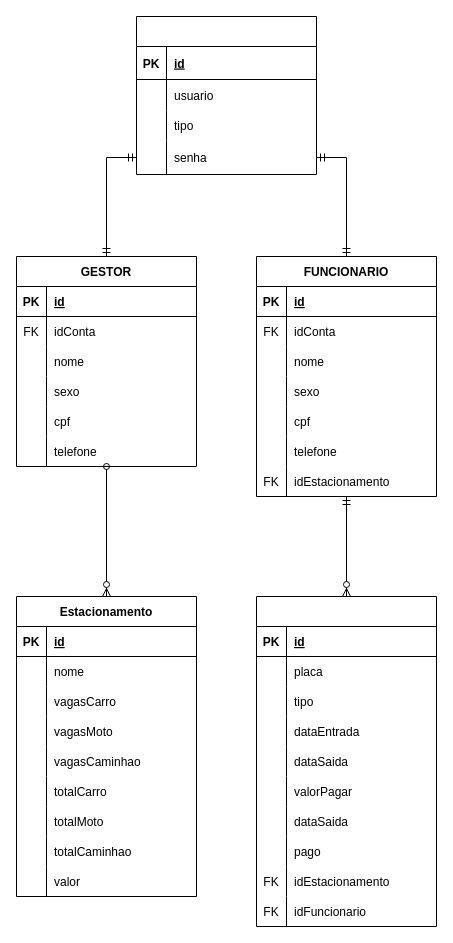
This 453x943 diagram has some shape labels left out. Here are the shapes that lost their labels. From the top down, the box of each, then its label:
(136, 16, 316, 174): CONTA
(256, 596, 436, 926): Registros
